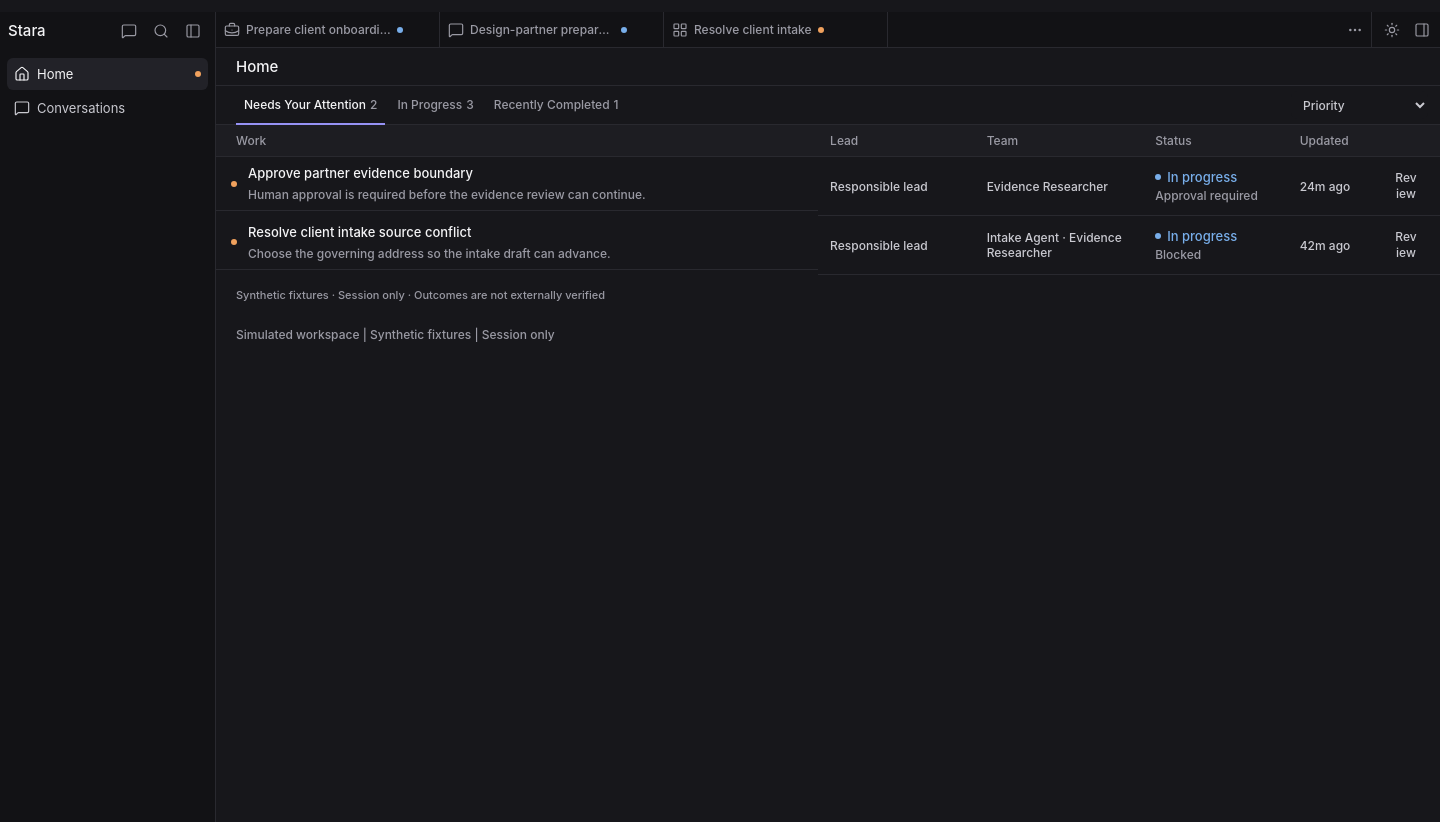
it: UI-SHELL-03 shell controls › Given a new conversation, only an unsent local draft is created
Click the button named "New conversation" at (129, 31), box [115,17,143,45]
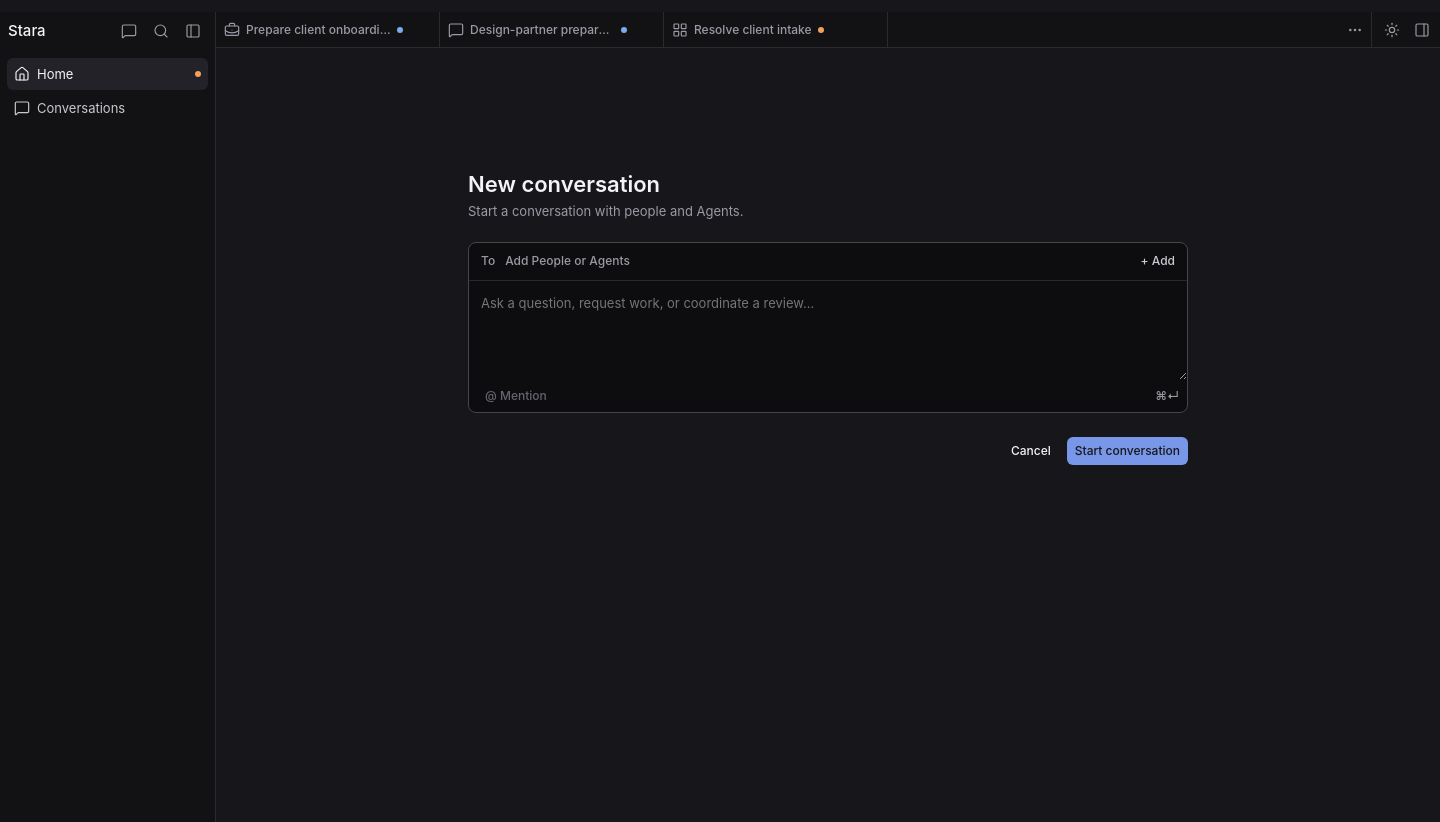
Click the button "Cancel" at (1031, 450), box [1003,436,1059,464]
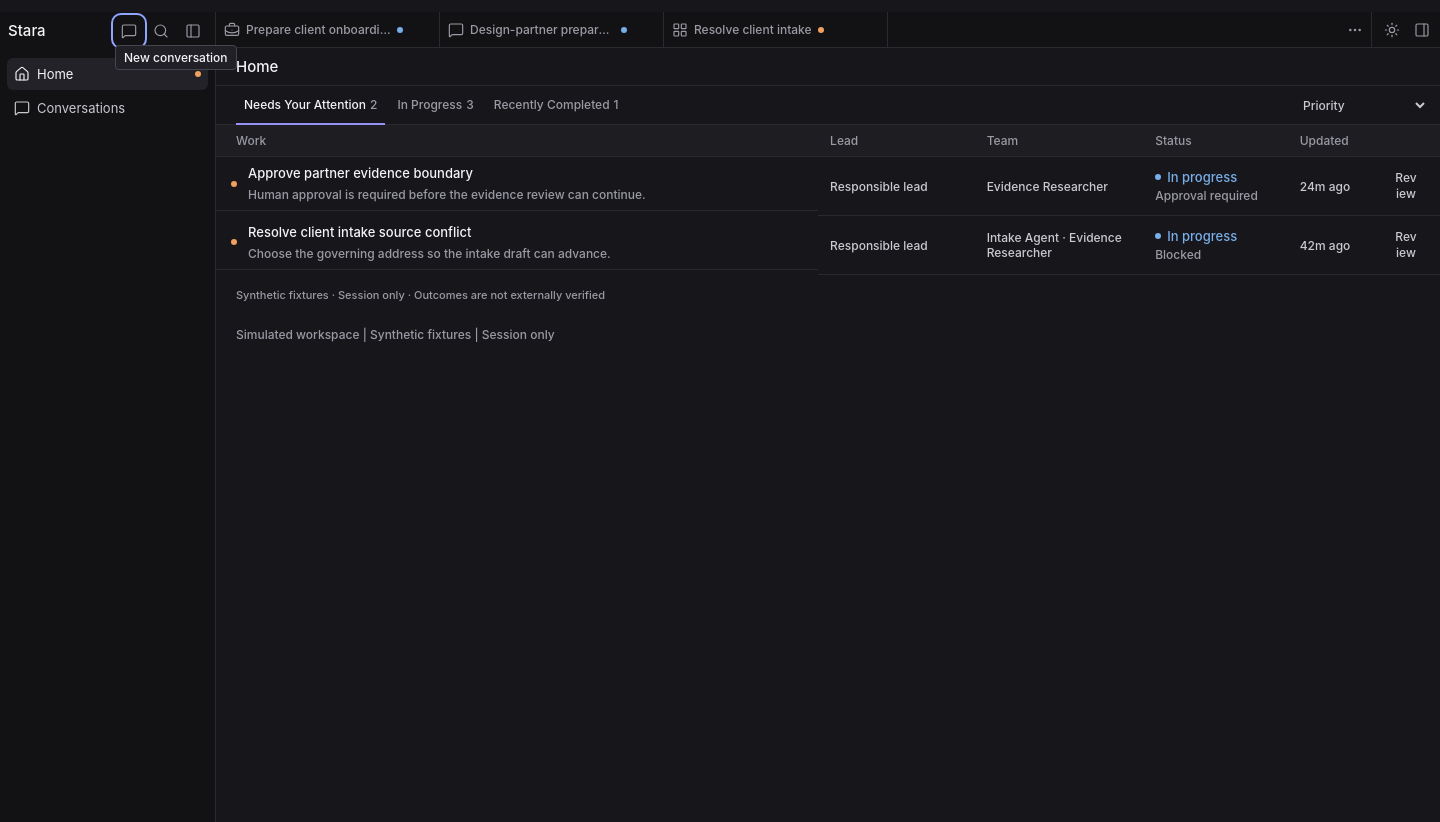
Click the button named "New conversation" at (129, 31), box [115,17,143,45]
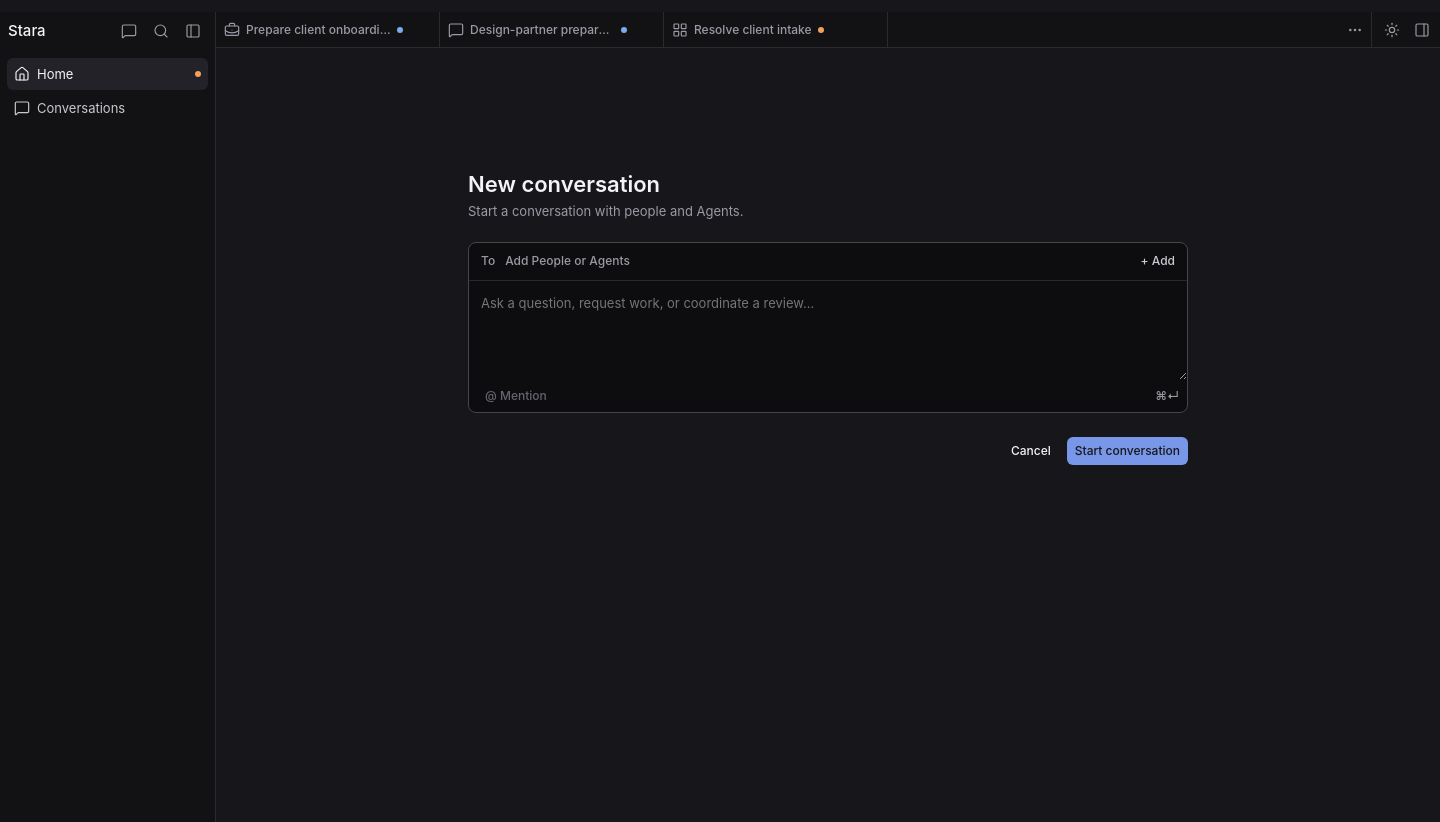
Type "Review local evidence" into the text box named "Message" at (828, 330), box [469,280,1187,380]
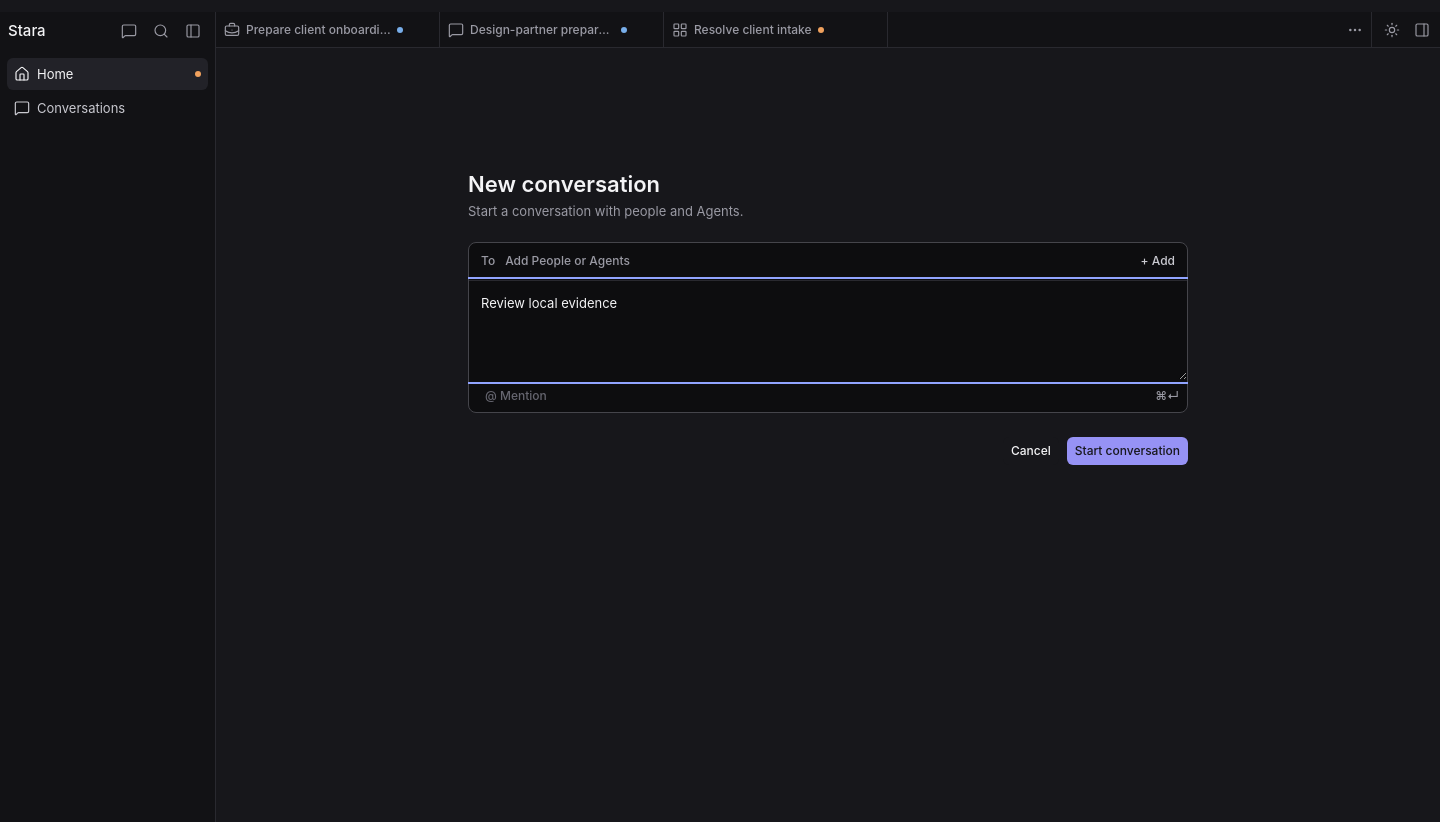
Click the button "Start conversation" at (1127, 450), box [1067,436,1188,464]
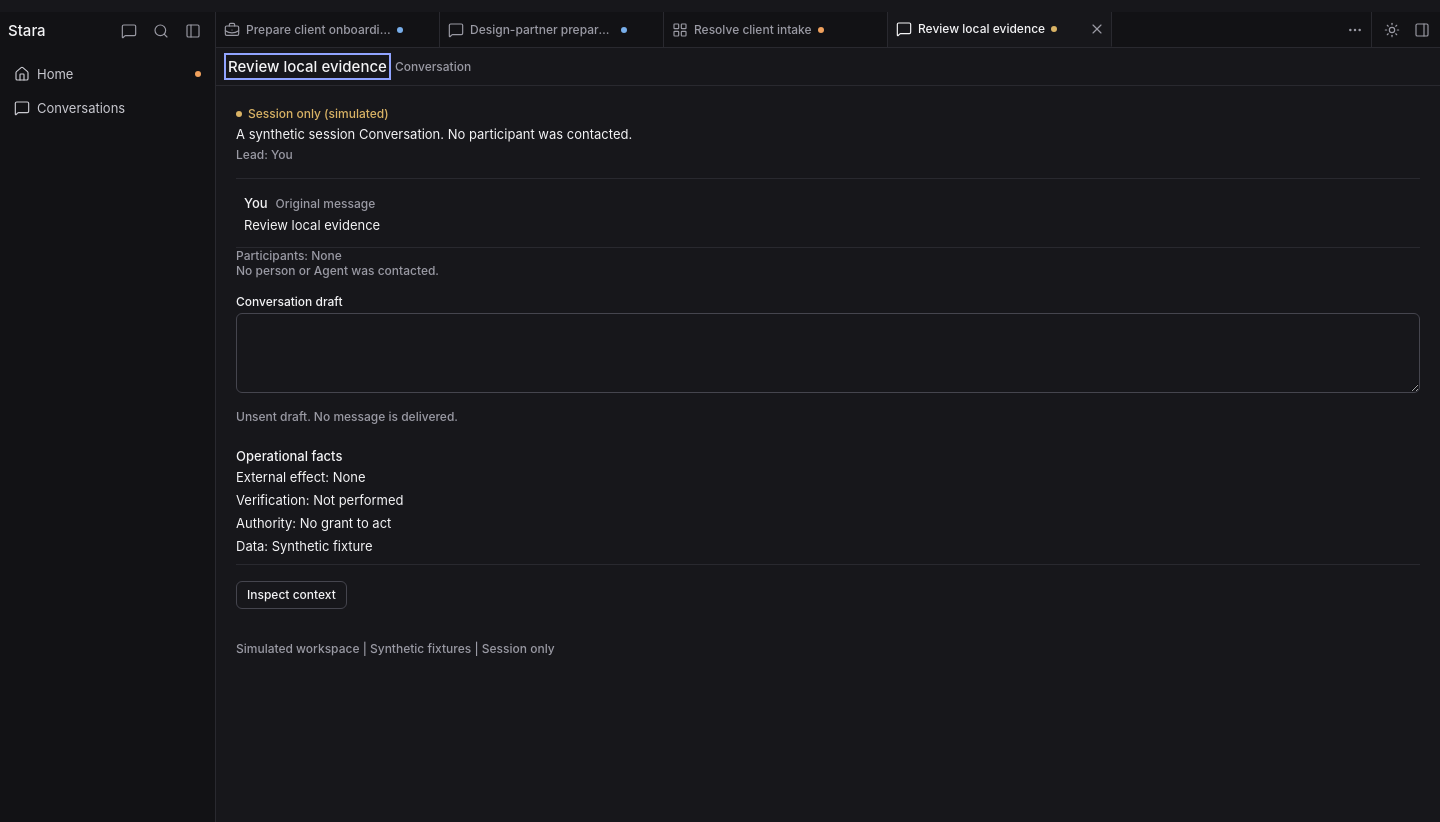
Now the heading "Review local evidence" is shown, box [228,56,387,76]
Now the text "No person or Agent was contacted." is shown, box [236,263,439,278]
